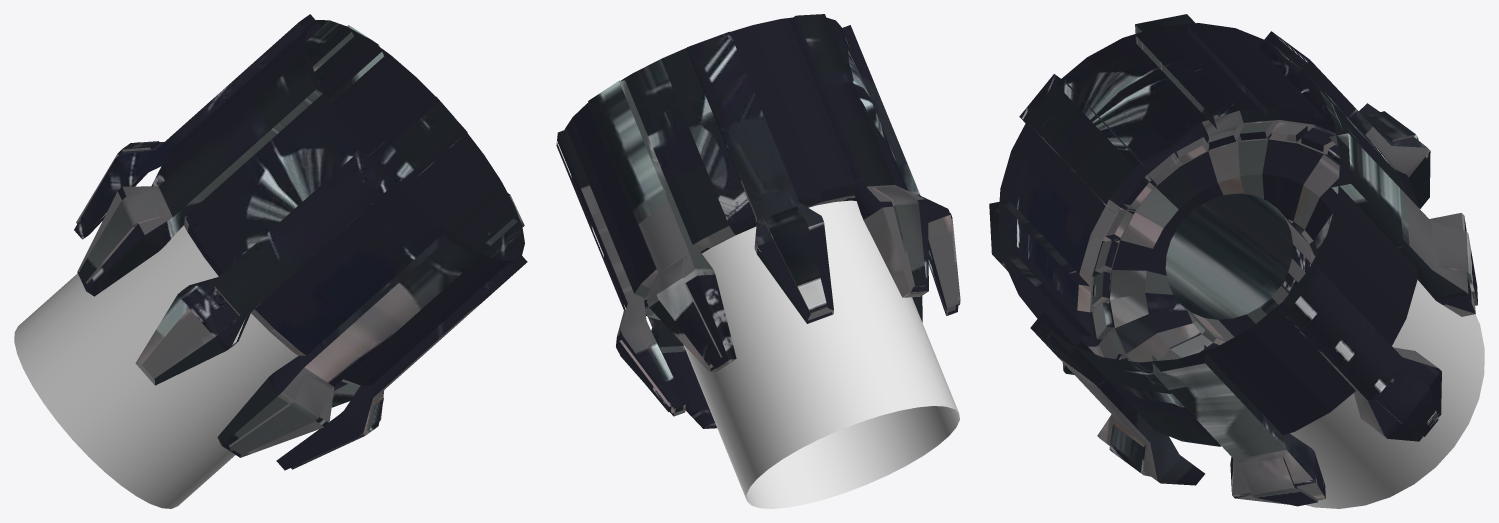
The model's file is station2.glb.
3 views of the same model, side by side, from view 1: azimuth 30°, elevation 25°; view 2: azimuth 150°, elevation 25°; view 3: azimuth 270°, elevation 25° (orthographic). The views are drawn at different scales.
Parts seen in each view (by area): view 1: stationL.015, plume_outer; view 2: stationL.015, plume_outer; view 3: stationL.015, plume_outer.
Boxes of the visible parts, box(x1,y1,x2,y2) form: stationL.015: box(74, 14, 527, 470); plume_outer: box(14, 225, 297, 508); stationL.015: box(556, 14, 960, 428); plume_outer: box(683, 200, 959, 508); stationL.015: box(989, 14, 1477, 506); plume_outer: box(1290, 279, 1484, 508).
Size of the model in its own units: 14.34 by 14.6 by 12.32.
2 materials, 1 textured.
